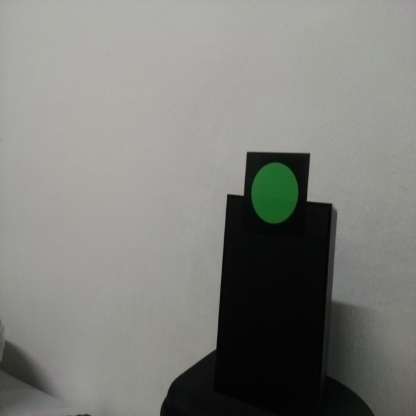id_5: (247, 152, 308, 241)
